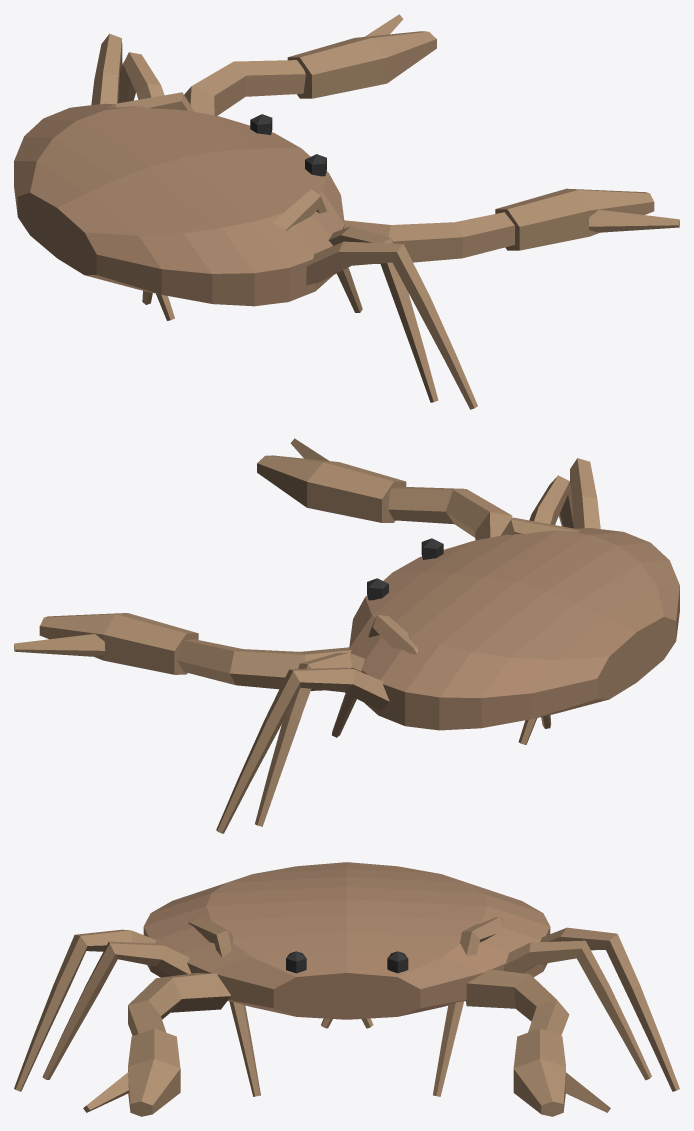
The model's file is dungeness_crab.glb.
3 renders of one model, top to bottom at view 1: azimuth 30°, elevation 25°; view 2: azimuth 150°, elevation 25°; view 3: azimuth 270°, elevation 25°, orthographic. The views are drawn at different scales.
Parts seen in each view (by area): view 1: dungeness_crab; view 2: dungeness_crab; view 3: dungeness_crab.
Boxes of the visible parts, bbox=[...] form: dungeness_crab: bbox=[14, 14, 679, 409]; dungeness_crab: bbox=[14, 438, 679, 833]; dungeness_crab: bbox=[14, 862, 679, 1116].
Size of the model in its own units: 0.2459 by 0.0728 by 0.315.
